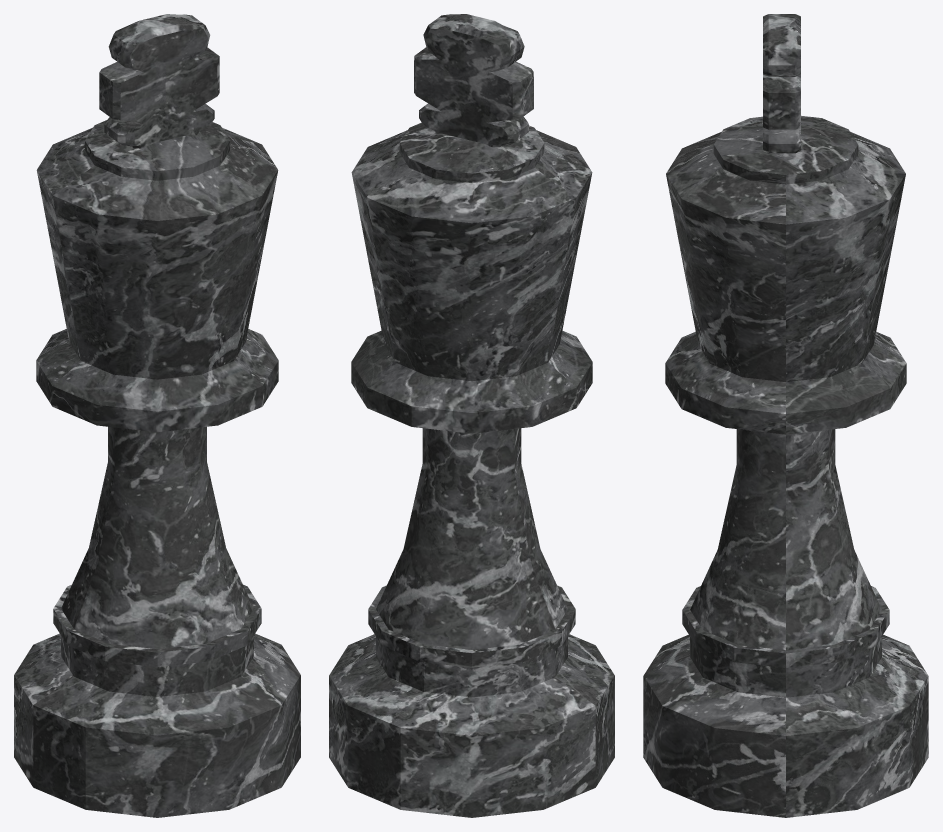
The model's file is b_king.glb.
3 views of the same model, side by side, from view 1: azimuth 30°, elevation 25°; view 2: azimuth 150°, elevation 25°; view 3: azimuth 270°, elevation 25° (orthographic).
Parts seen in each view (by area): view 1: King; view 2: King; view 3: King.
Boxes of the visible parts, x1,y1,x2,y2 form: King: (14, 14, 300, 817); King: (329, 14, 614, 817); King: (643, 14, 928, 817).
Size of the model in its own units: 1.31 by 3.72 by 1.31.
1 material, 1 textured.
